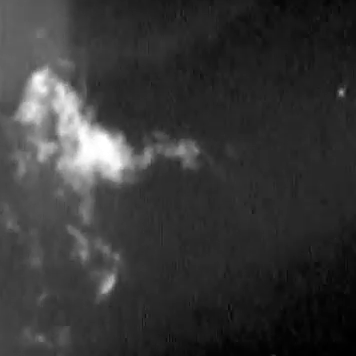Target: (338, 90, 343, 96)
